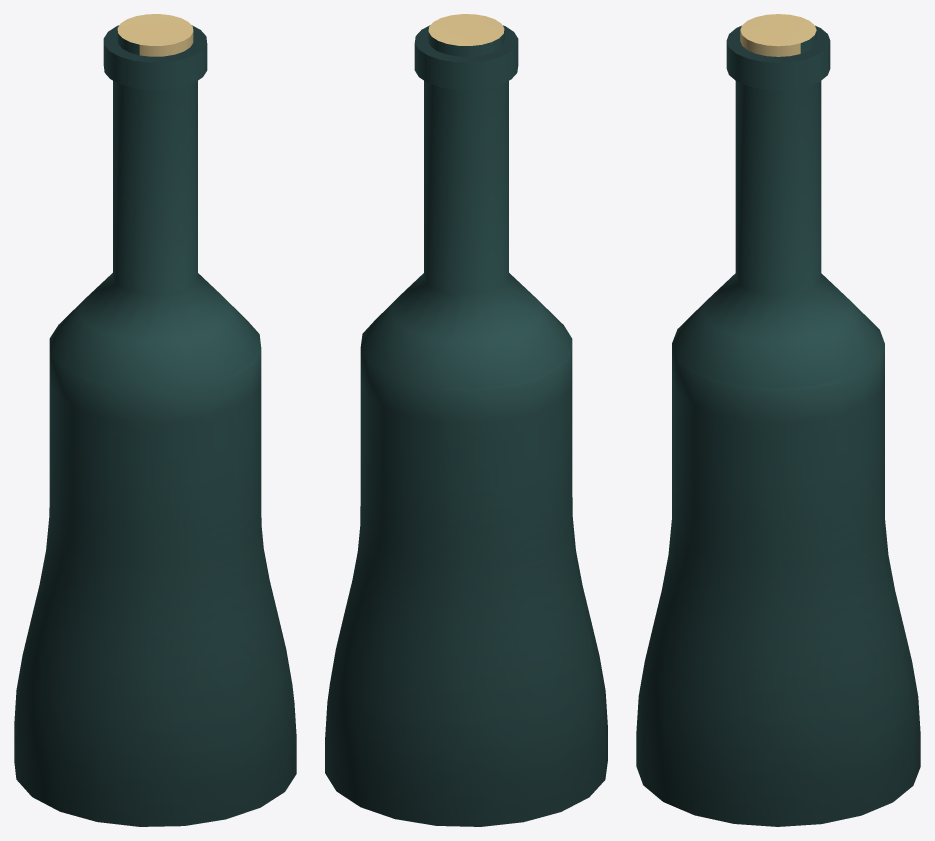
Rendered from bouteille2.fbx.
3 views of the same model, side by side, from view 1: azimuth 30°, elevation 25°; view 2: azimuth 150°, elevation 25°; view 3: azimuth 270°, elevation 25° (orthographic).
Parts seen in each view (by area): view 1: bottle2; view 2: bottle2; view 3: bottle2.
Part boxes in pixels (bbox=[...]): bottle2: bbox=[14, 14, 296, 826]; bottle2: bbox=[325, 14, 607, 826]; bottle2: bbox=[636, 14, 920, 826].
Bounding box in the file's own units: 19.39 × 55.49 × 19.39.
